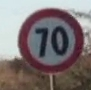limite 70: (17, 5, 84, 74)
